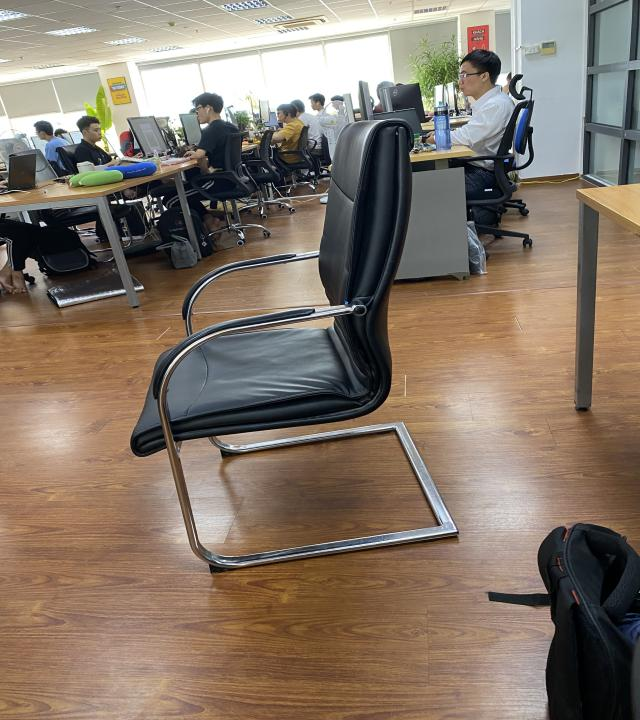SS_03: (127, 114, 457, 576)
